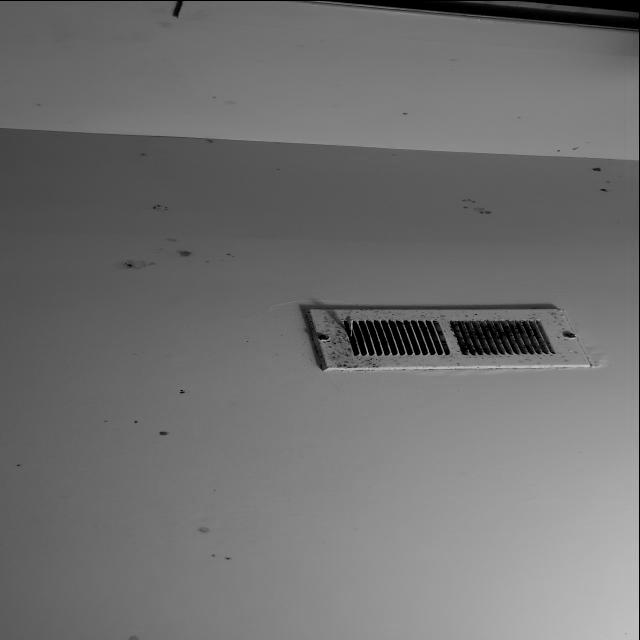pin holes: (121, 248, 139, 284), (92, 413, 115, 439), (172, 383, 194, 410), (130, 413, 149, 437), (10, 458, 31, 477), (590, 187, 620, 200), (587, 162, 611, 178), (148, 194, 162, 221), (158, 424, 174, 445), (222, 550, 239, 568)
